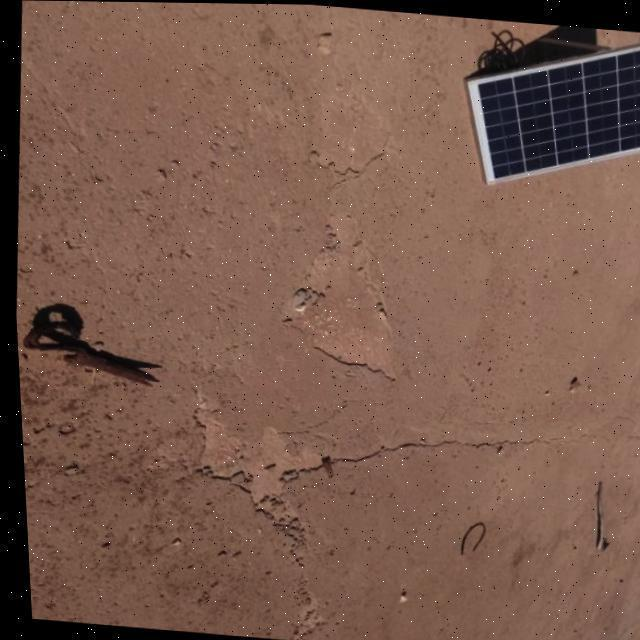Normal Solar Panel: (456, 22, 640, 196)
